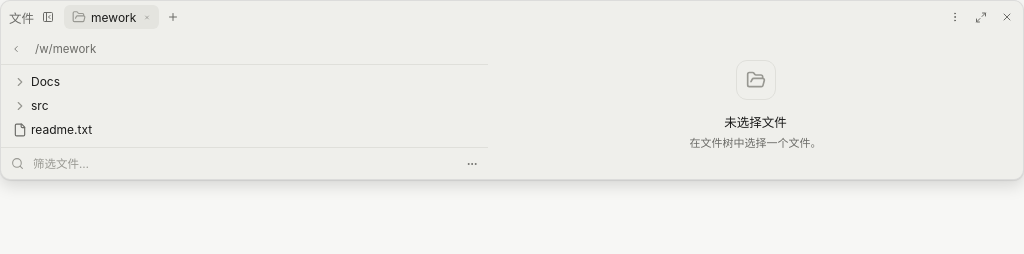
Scenario: FilesPane › keeps the tree beside the viewer once a file is open
Click the list item "src": (31, 106) [13, 98, 48, 113]
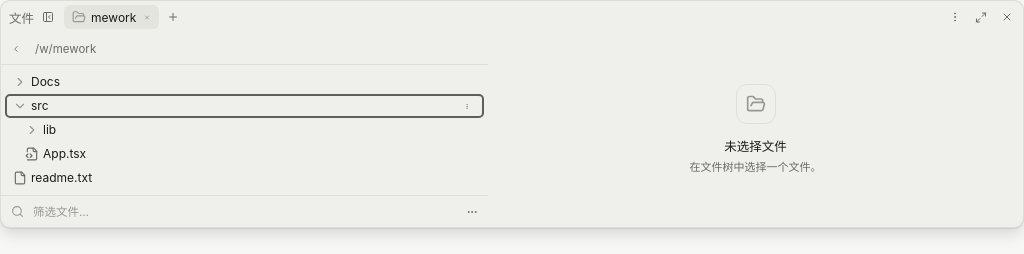
Click the list item "App.tsx": (56, 154) [25, 146, 86, 161]
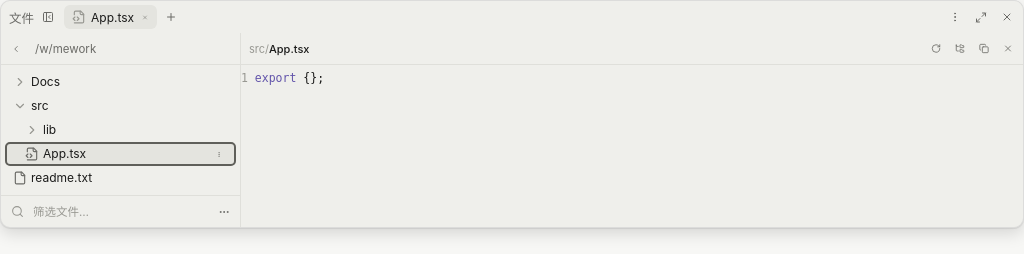
Check: the list is shown, box [1, 65, 240, 195]
Check: the element named "src/App.tsx" is shown, box [241, 71, 324, 85]
